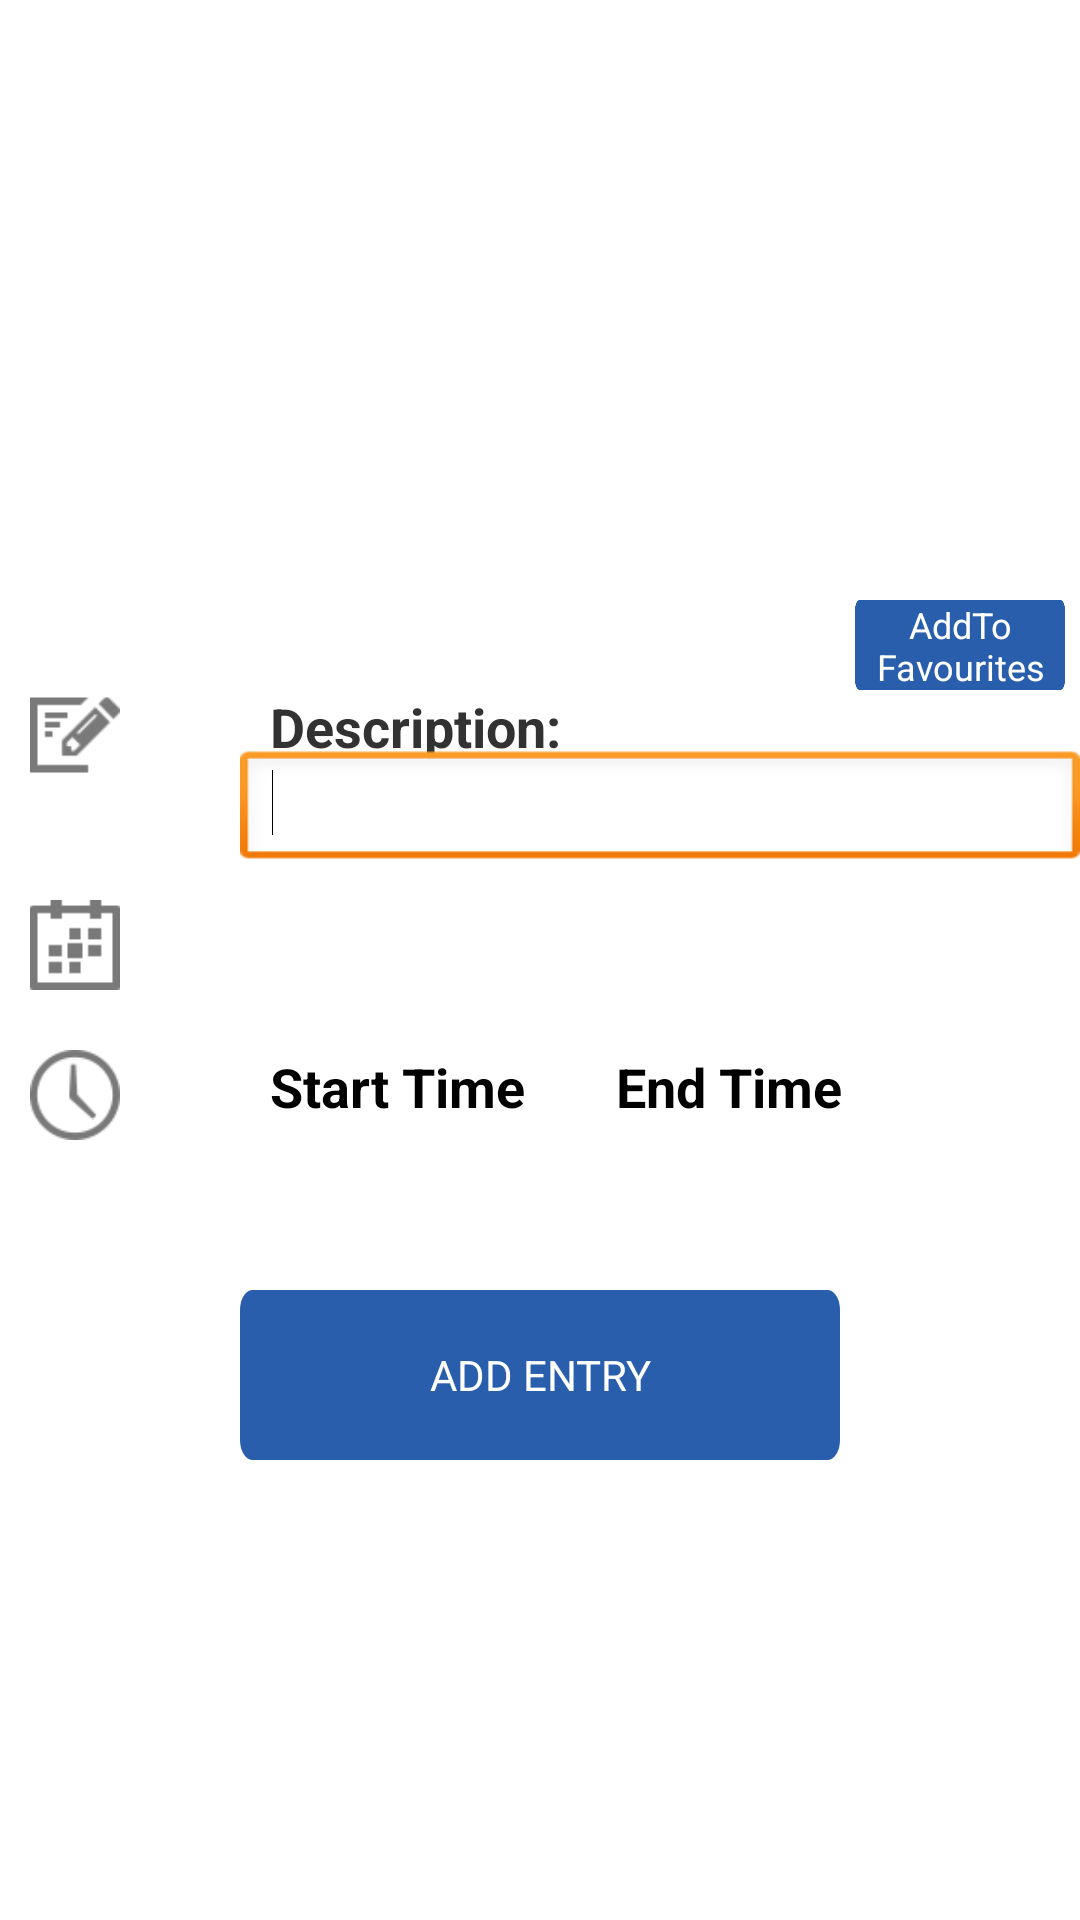

Icon click points for this 1080 × 1920 phone screenshot, format [x,y]:
date calendar: [75,945]
